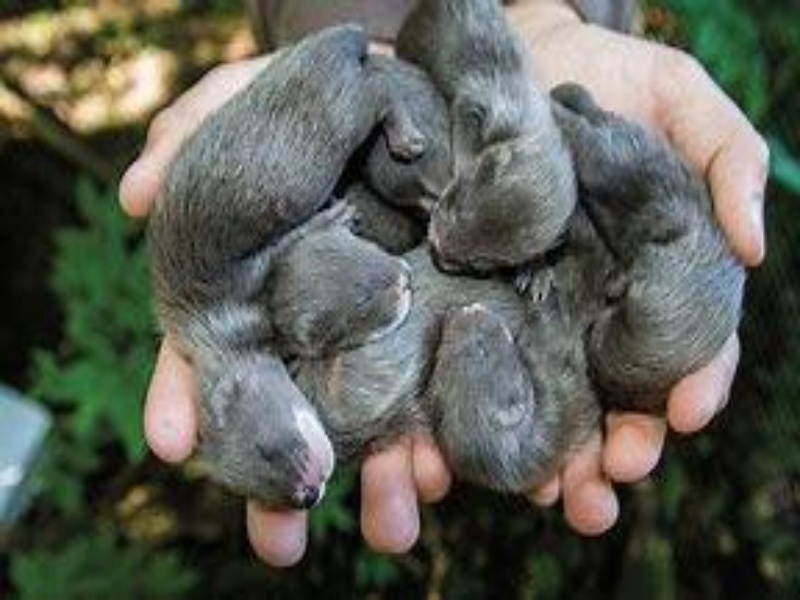minkish: (141, 21, 425, 517), (550, 83, 747, 428), (397, 4, 578, 295), (431, 247, 597, 504), (269, 220, 416, 356)
